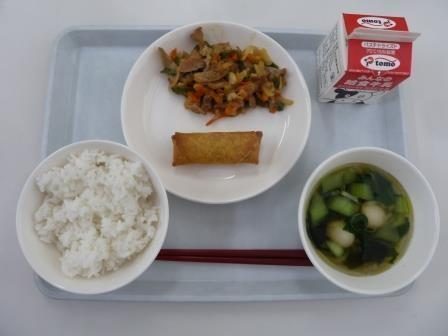Milk: (317, 6, 427, 111)
Rice: (15, 140, 165, 295)
Soups: (292, 152, 440, 288)
cooked food meat with vegetables: (154, 29, 293, 117)
crepe w filling: (172, 118, 267, 182)
